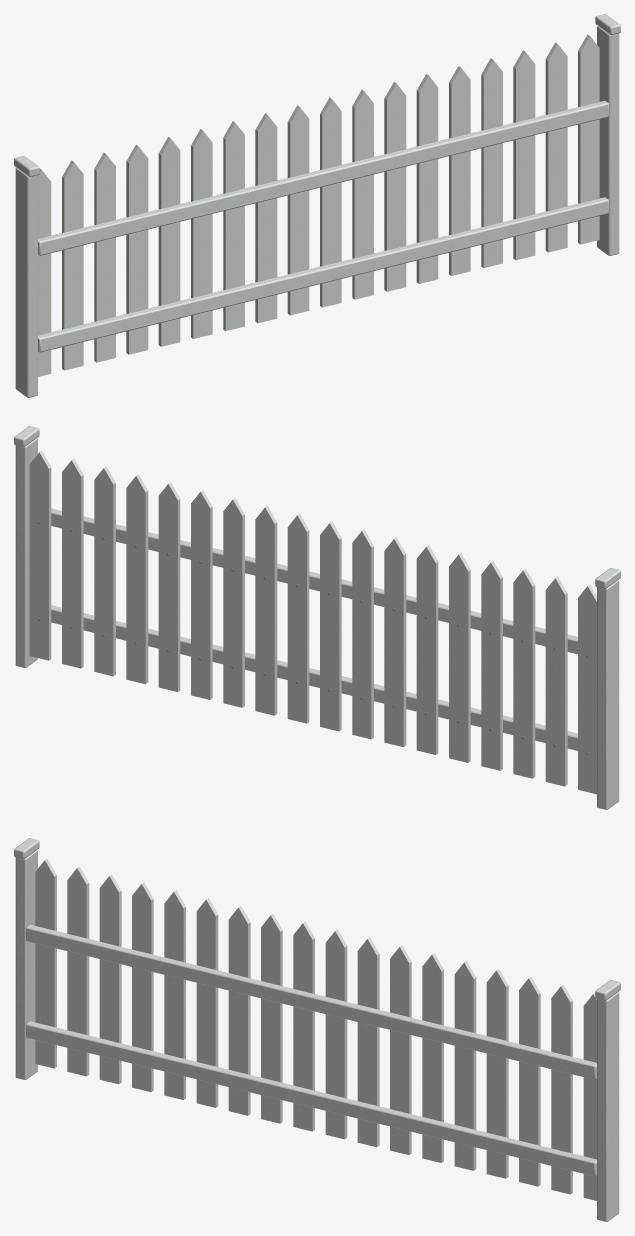
File: PicketFenceSection.gltf
3 renders of one model, top to bottom at view 1: azimuth 30°, elevation 25°; view 2: azimuth 150°, elevation 25°; view 3: azimuth 330°, elevation 25°, orthographic.
Visible parts, largest first — view 1: PicketFenceSection__Body; view 2: PicketFenceSection__Body; view 3: PicketFenceSection__Body.
Part boxes in pixels (left/top/right/bottom): PicketFenceSection__Body: left=14, top=14, right=620, bottom=397; PicketFenceSection__Body: left=14, top=426, right=620, bottom=809; PicketFenceSection__Body: left=14, top=838, right=620, bottom=1221.
Size of the model in its own units: 2.41 by 0.896 by 0.112.
1 material, 1 textured.
